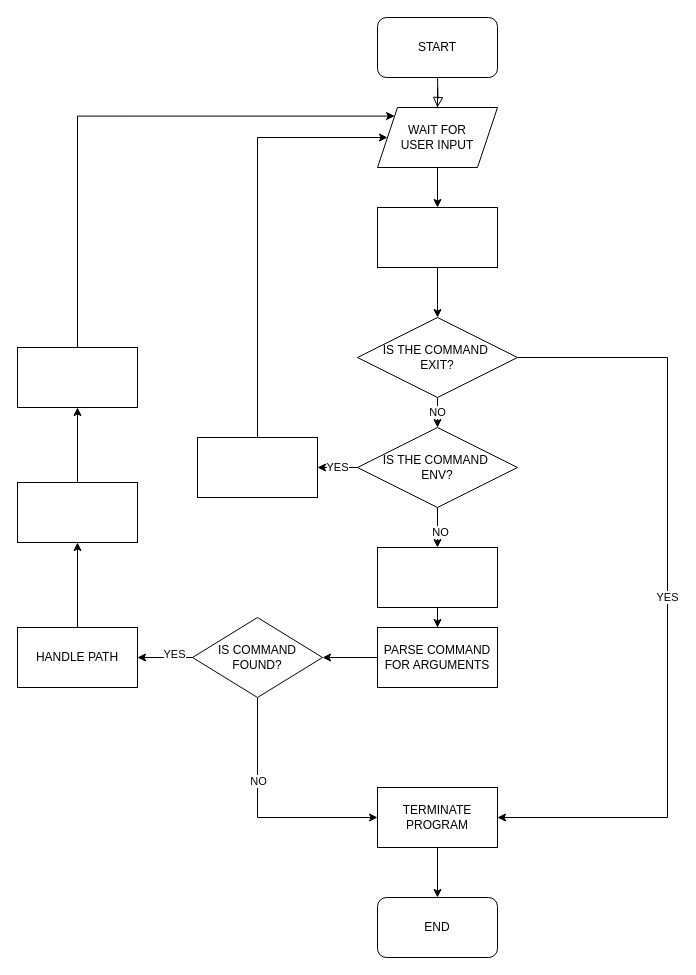
The diagram is 696 pixels wide and 975 high, and some of its shapes have lost their labels. The box of each missing label's shape, as (x1, y1, x2, y2) in pixels:
EXECUTE COMMAND: (16, 346, 138, 408)
FORK: (16, 482, 138, 542)
PRINT THE ENVIRONMENT VARIABLES: (196, 436, 318, 498)
SETUP ENVIRONMENT FOR EXECUTION: (376, 546, 498, 608)
TOKENIZE THE INPUT FOR NEWLINE CHARACTERS: (376, 206, 498, 268)
